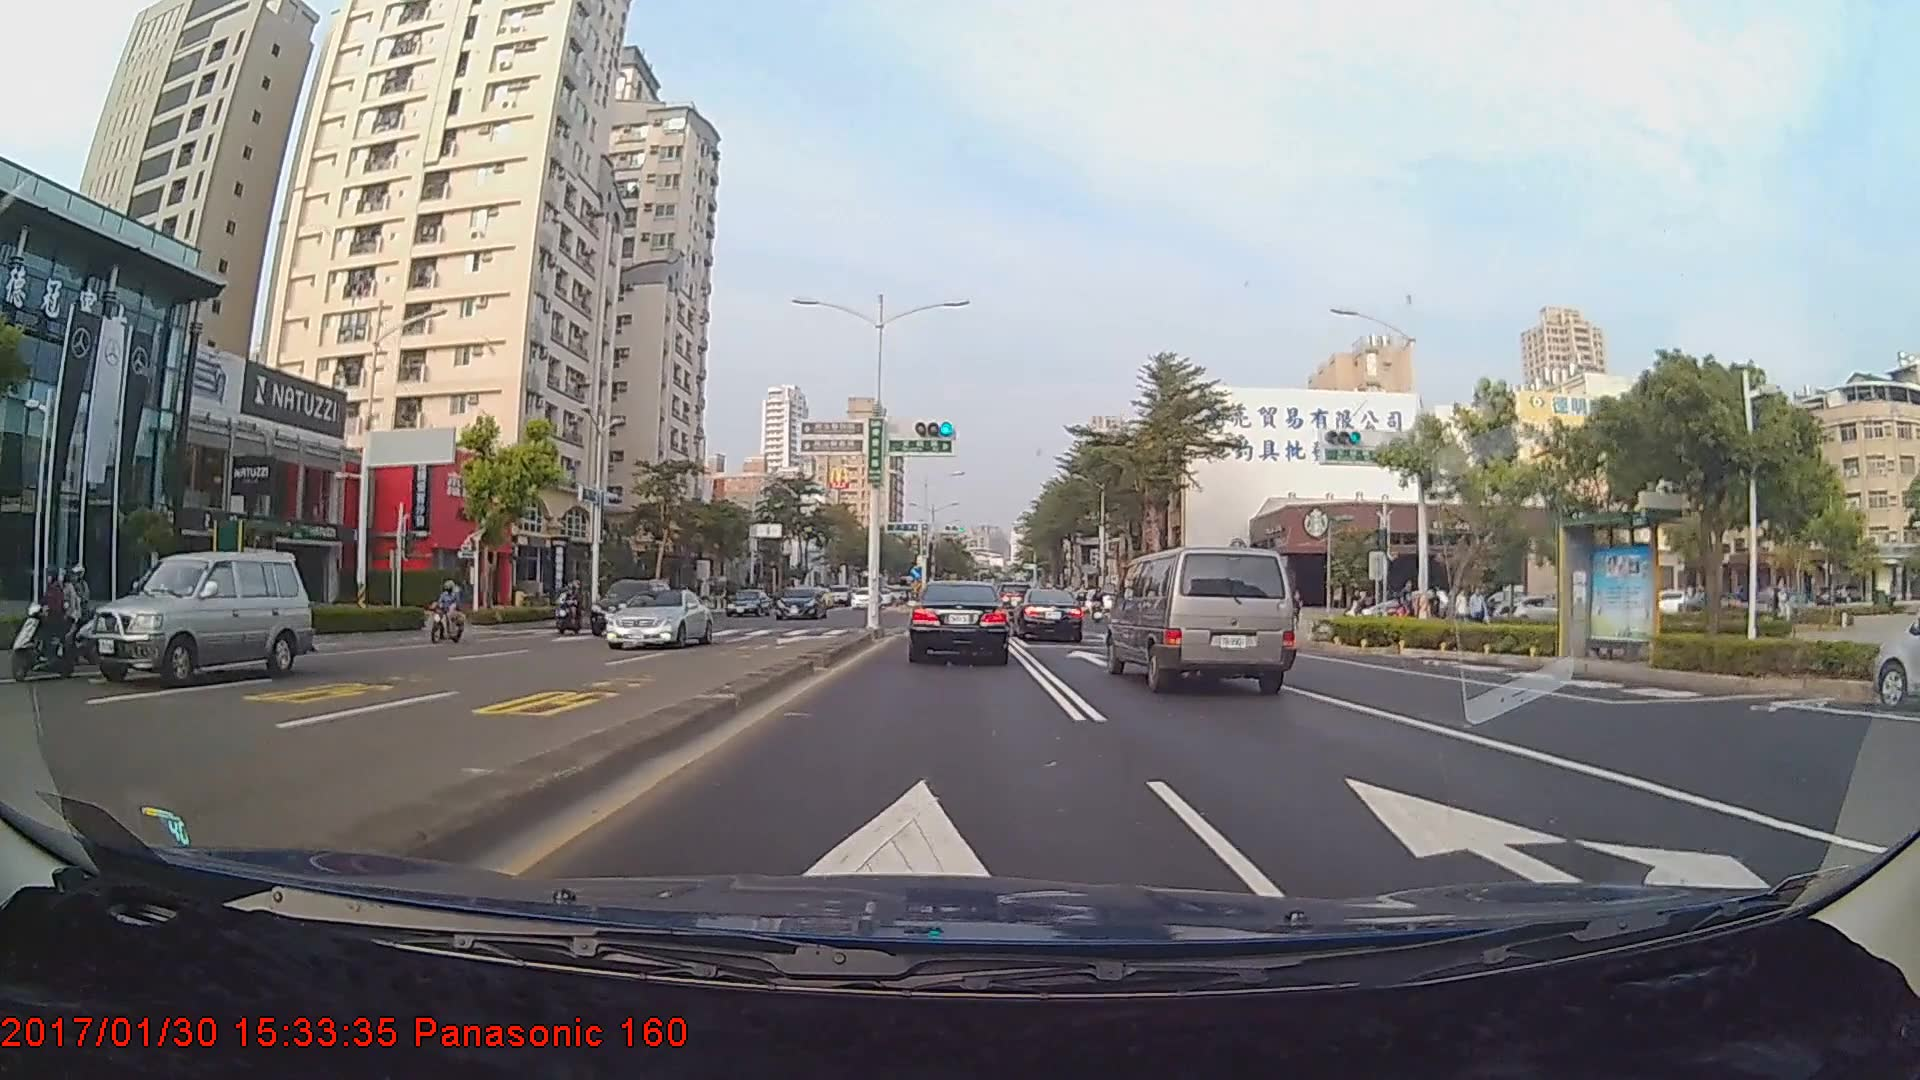rider: (17, 559, 110, 683), (427, 577, 474, 650), (551, 578, 583, 639), (546, 585, 573, 630)
vehicle: (89, 548, 312, 689), (1109, 543, 1298, 693), (910, 579, 1008, 663), (604, 590, 711, 651), (1869, 591, 1920, 715), (587, 577, 673, 637), (1013, 588, 1084, 642), (775, 585, 829, 622), (725, 590, 770, 618)
